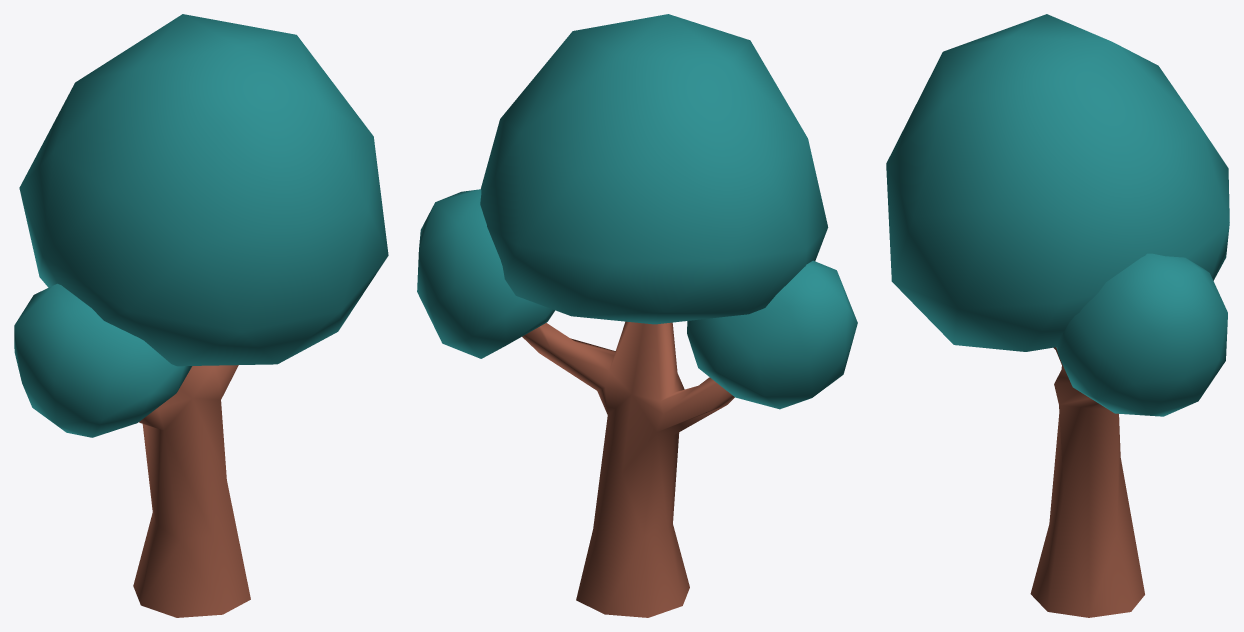
Rendered from detail_treeC.glb.
3 renders of one model, left to right at view 1: azimuth 30°, elevation 25°; view 2: azimuth 150°, elevation 25°; view 3: azimuth 270°, elevation 25°, orthographic. The views are drawn at different scales.
Visible parts, largest first — view 1: detail_treeC; view 2: detail_treeC; view 3: detail_treeC.
Boxes of the visible parts, x1,y1,x2,y2 form: detail_treeC: [14, 14, 388, 617]; detail_treeC: [417, 14, 857, 617]; detail_treeC: [886, 14, 1229, 617].
Size of the model in its own units: 0.5356 by 0.7574 by 0.4217.
